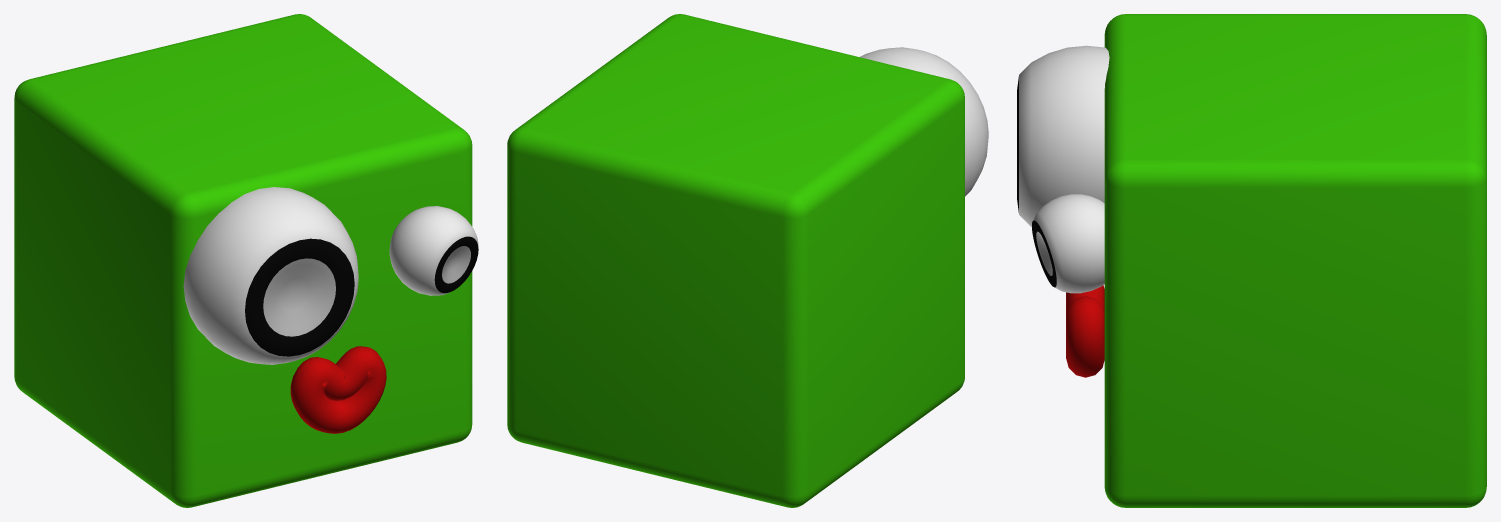
File: gloink_cubo.glb
The picture shows the model from 3 angles, left to right: view 1: azimuth 30°, elevation 25°; view 2: azimuth 150°, elevation 25°; view 3: azimuth 270°, elevation 25°; orthographic projection. The views are drawn at different scales.
Parts seen in each view (by area): view 1: Cube_0, Esfera_1, Esfera.001_2, object 4; view 2: Cube_0, Esfera_1; view 3: Cube_0, Esfera_1, Esfera.001_2, object 4.
Boxes of the visible parts, x1,y1,x2,y2 form: Cube_0: [14, 14, 472, 507]; Esfera_1: [183, 187, 358, 364]; Esfera.001_2: [389, 206, 478, 295]; object 4: [290, 346, 386, 433]; Cube_0: [507, 14, 964, 507]; Esfera_1: [859, 47, 988, 196]; Cube_0: [1104, 14, 1486, 507]; Esfera_1: [1017, 45, 1109, 227]; Esfera.001_2: [1032, 194, 1104, 293]; object 4: [1066, 285, 1104, 377].
Size of the model in its own units: 2 by 2 by 2.46.
